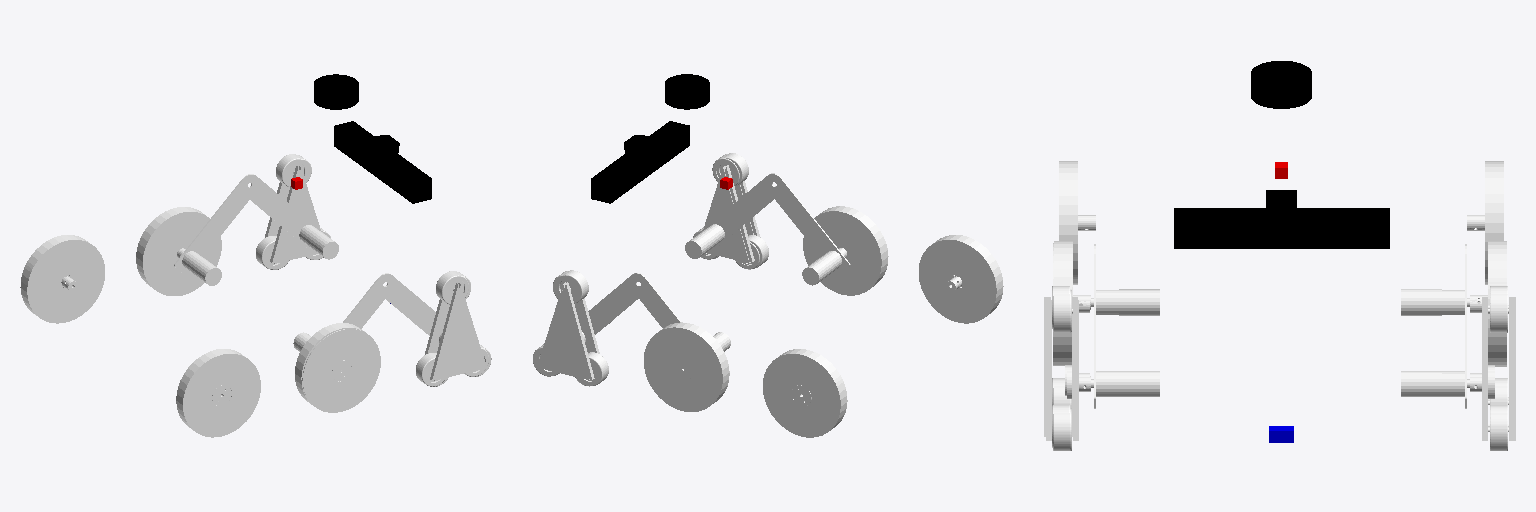
URDF robot description (r2krishna):
<?xml version="1.0" encoding="utf-8"?>
<robot name="r2krishna">

  <material name="white"><color rgba="1 1 1 1"/></material>
  <material name="black"><color rgba="0 0 0 1"/></material>
  <material name="red"><color rgba="1 0 0 1"/></material>
  <material name="blue"><color rgba="0 0 1 1"/></material>

  <link name="base_footprint"/>
  <joint name="base_footprint_joint" type="fixed">
    <parent link="base_footprint"/>
    <child link="base_link"/>
    <origin xyz="0 0 0" rpy="0 0 0"/>
  </joint>

  <link name="base_link">
    <inertial>
      <origin xyz="-0.1 0 -0.05" rpy="0 0 0"/> 
      <mass value="25.0"/> 
      <inertia ixx="0.5" ixy="0" ixz="0" iyy="0.5" iyz="0" izz="0.5"/>
    </inertial>
    <visual>
      <origin xyz="0 0 0" rpy="0 0 0"/>
      <geometry><mesh filename="package://r2krishna/meshes/base.STL"/></geometry>
      <material name="white"/>
    </visual>
    <collision>
      <origin xyz="0 0 0.05" rpy="0 0 0"/>
      <geometry><box size="0.6 0.4 0.15"/></geometry>
    </collision>
  </link>

  <link name="imu_link"/>
  <joint name="imu_joint" type="fixed">
    <parent link="base_link"/>
    <child link="imu_link"/>
    <origin xyz="0 0 0" rpy="0 0 0"/>
  </joint>

  <link name="ultrasonic_link">
    <visual>
      <geometry><box size="0.02 0.04 0.02"/></geometry>
      <material name="blue"/>
    </visual>
    <inertial><mass value="0.05"/><inertia ixx="0.0001" ixy="0" ixz="0" iyy="0.0001" iyz="0" izz="0.0001"/></inertial>
  </link>
  <joint name="ultrasonic_joint" type="fixed">
    <parent link="base_link"/>
    <child link="ultrasonic_link"/>
    <origin xyz="0.36 0 -0.3" rpy="0 0 0"/>
  </joint>

  <link name="belly_camera_link">
    <visual>
      <geometry><box size="0.02 0.02 0.02"/></geometry>
      <material name="red"/>
    </visual>
    <inertial><mass value="0.05"/><inertia ixx="0.0001" ixy="0" ixz="0" iyy="0.0001" iyz="0" izz="0.0001"/></inertial>
  </link>
  <joint name="belly_camera_joint" type="fixed">
    <parent link="base_link"/>
    <child link="belly_camera_link"/>
    <origin xyz="0.1 0 0.05" rpy="0 1.57 0"/>
  </joint>

  <link name="lidar_link">
    <visual><geometry><cylinder radius="0.05" length="0.04"/></geometry><material name="black"/></visual>
    <inertial><mass value="0.1"/><inertia ixx="0.0001" ixy="0" ixz="0" iyy="0.0001" iyz="0" izz="0.0001"/></inertial>
  </link>
  <joint name="lidar_joint" type="fixed">
    <parent link="base_link"/>
    <child link="lidar_link"/>
    <origin xyz="0.20 0 0.25" rpy="0 0 0"/>
  </joint>

  <link name="camera_link">
    <visual><geometry><box size="0.05 0.05 0.05"/></geometry><material name="black"/></visual>
    <inertial><mass value="0.05"/><inertia ixx="0.0001" ixy="0" ixz="0" iyy="0.0001" iyz="0" izz="0.0001"/></inertial>
  </link>
  <joint name="camera_joint" type="fixed">
    <parent link="base_link"/>
    <child link="camera_link"/>
    <origin xyz="0.32 0 0.08" rpy="0 0.15 0"/>
  </joint>

  <gazebo reference="camera_link">
    <sensor name="camera" type="camera"> 
      <visualize>true</visualize>
      <update_rate>30</update_rate>
      <topic>/camera/image_raw</topic> 
      <camera>
        <horizontal_fov>1.047</horizontal_fov>
        <image><width>640</width><height>480</height><format>R8G8B8</format></image>
        <clip><near>0.05</near><far>10.0</far></clip>
       </camera>
    </sensor>
  </gazebo>

  <gazebo reference="belly_camera_link">
    <sensor name="belly_camera" type="camera">
      <visualize>true</visualize>
      <update_rate>30</update_rate>
      <topic>/belly_camera/image_raw</topic>
      <camera>
        <horizontal_fov>1.0</horizontal_fov>
        <image><width>320</width><height>240</height><format>R8G8B8</format></image>
        <clip><near>0.02</near><far>2.0</far></clip>
      </camera>
    </sensor>
  </gazebo>

  <link name="bumper_link">
    <visual><geometry><box size="0.05 0.35 0.05"/></geometry><material name="black"/></visual>
    <collision name="bumper_collision"><geometry><box size="0.05 0.35 0.05"/></geometry></collision>
    <inertial><mass value="0.1"/><inertia ixx="0.001" ixy="0" ixz="0" iyy="0.001" iyz="0" izz="0.001"/></inertial>
  </link>
  <joint name="bumper_joint" type="fixed"><parent link="base_link"/><child link="bumper_link"/><origin xyz="0.32 0 0.05" rpy="0 0 0"/></joint>

  <link name="left_rover_side">
    <inertial><origin xyz="-0.026 0 -0.145"/><mass value="5.0"/><inertia ixx="0.1" ixy="0" ixz="0" iyy="0.1" iyz="0" izz="0.1"/></inertial>
    <visual><geometry><mesh filename="package://r2krishna/meshes/left_rover_side.STL"/></geometry><material name="white"/></visual>
  </link>
  <joint name="left_rover_side_joint" type="revolute">
    <origin xyz="0.151 -0.3 -0.086"/><parent link="base_link"/><child link="left_rover_side"/><axis xyz="0 1 0"/>
    <limit lower="-0.4" upper="0.4" effort="1000" velocity="10"/>
    <dynamics damping="2.0" friction="1.0"/>
  </joint>

  <link name="left_1">
    <visual><geometry><mesh filename="package://r2krishna/meshes/left_1.STL"/></geometry><material name="white"/></visual>
    <collision><origin xyz="0 -0.02 0" rpy="1.57 0 0"/><geometry><cylinder radius="0.15" length="0.05"/></geometry></collision>
    <inertial><mass value="2.0"/><inertia ixx="0.1" ixy="0" ixz="0" iyy="0.1" iyz="0" izz="0.1"/></inertial>
  </link>
  <joint name="left_1_joint" type="continuous"><origin xyz="-0.15 -0.01 -0.15"/><parent link="left_rover_side"/><child link="left_1"/><axis xyz="0 1 0"/></joint>

  <link name="left_2">
    <visual><geometry><mesh filename="package://r2krishna/meshes/left_2.STL"/></geometry><material name="white"/></visual>
    <collision><origin xyz="0 -0.02 0" rpy="1.57 0 0"/><geometry><cylinder radius="0.15" length="0.05"/></geometry></collision>
    <inertial><mass value="2.0"/><inertia ixx="0.1" ixy="0" ixz="0" iyy="0.1" iyz="0" izz="0.1"/></inertial>
  </link>
  <joint name="left_2_joint" type="continuous"><origin xyz="-0.3 -0.3 -0.23"/><parent link="base_link"/><child link="left_2"/><axis xyz="0 1 0"/></joint>

  <link name="right_rover_side">
    <inertial><origin xyz="-0.026 0 -0.145"/><mass value="5.0"/><inertia ixx="0.1" ixy="0" ixz="0" iyy="0.1" iyz="0" izz="0.1"/></inertial>
    <visual><geometry><mesh filename="package://r2krishna/meshes/right_rover_side.STL"/></geometry><material name="white"/></visual>
  </link>
  <joint name="right_rover_side_joint" type="revolute">
    <origin xyz="0.151 0.295 -0.086"/><parent link="base_link"/><child link="right_rover_side"/><axis xyz="0 1 0"/>
    <limit lower="-0.4" upper="0.4" effort="1000" velocity="10"/>
    <dynamics damping="2.0" friction="1.0"/>
  </joint>

  <link name="right_1">
    <visual><geometry><mesh filename="package://r2krishna/meshes/right_1.STL"/></geometry><material name="white"/></visual>
    <collision><origin xyz="0 0.02 0" rpy="1.57 0 0"/><geometry><cylinder radius="0.15" length="0.05"/></geometry></collision>
    <inertial><mass value="2.0"/><inertia ixx="0.1" ixy="0" ixz="0" iyy="0.1" iyz="0" izz="0.1"/></inertial>
  </link>
  <joint name="right_1_joint" type="continuous"><origin xyz="-0.15 0.01 -0.15"/><parent link="right_rover_side"/><child link="right_1"/><axis xyz="0 1 0"/></joint>

  <link name="right_2">
    <visual><geometry><mesh filename="package://r2krishna/meshes/right_2.STL"/></geometry><material name="white"/></visual>
    <collision>
        <origin xyz="0 0.02 0" rpy="1.57 0 0"/><geometry><cylinder radius="0.15" length="0.05"/></geometry>
        <surface><friction><ode><mu>2.0</mu><mu2>2.0</mu2></ode></friction></surface>
    </collision>
    <inertial><mass value="2.0"/><inertia ixx="0.1" ixy="0" ixz="0" iyy="0.1" iyz="0" izz="0.1"/></inertial>
  </link>
  <joint name="right_2_joint" type="continuous"><origin xyz="-0.3 0.3 -0.23"/><parent link="base_link"/><child link="right_2"/><axis xyz="0 1 0"/></joint>

  <link name="tri_1">
    <visual><geometry><mesh filename="package://r2krishna/meshes/tri_1.STL"/></geometry><material name="white"/></visual>
    <collision><origin xyz="0 -0.04 0"/><geometry><box size="0.2 0.05 0.2"/></geometry></collision>
    <inertial><mass value="2.0"/><inertia ixx="0.1" ixy="0" ixz="0" iyy="0.1" iyz="0" izz="0.1"/></inertial>
  </link>
  <joint name="tri_1_joint" type="continuous"><origin xyz="0.14 -0.01 -0.15"/><parent link="left_rover_side"/><child link="tri_1"/><axis xyz="0 1 0"/></joint>

  <link name="tri_2">
    <visual><geometry><mesh filename="package://r2krishna/meshes/tri_2.STL"/></geometry><material name="white"/></visual>
    <collision><origin xyz="0 0.04 0"/><geometry><box size="0.2 0.05 0.2"/></geometry></collision>
    <inertial><mass value="2.0"/><inertia ixx="0.1" ixy="0" ixz="0" iyy="0.1" iyz="0" izz="0.1"/></inertial>
  </link>
  <joint name="tri_2_joint" type="continuous"><origin xyz="0.14 0.01 -0.15"/><parent link="right_rover_side"/><child link="tri_2"/><axis xyz="0 1 0"/></joint>

  <link name="caster_back">
    <collision>
        <geometry><sphere radius="0.1"/></geometry>
        <surface>
            <friction>
                <ode>
                    <mu>0.0</mu>
                    <mu2>0.0</mu2>
                    <slip1>1.0</slip1>
                    <slip2>1.0</slip2>
                </ode>
            </friction>
        </surface>
    </collision>
    <inertial><mass value="15.0"/><inertia ixx="0.1" ixy="0" ixz="0" iyy="0.1" iyz="0" izz="0.1"/></inertial>
  </link>
  <joint name="caster_back_joint" type="fixed"><parent link="base_link"/><child link="caster_back"/><origin xyz="-0.3 0 -0.15"/></joint>

  <gazebo>
    <plugin filename="gz-sim-diff-drive-system" name="gz::sim::systems::DiffDrive">
      <left_joint>left_2_joint</left_joint><left_joint>left_1_joint</left_joint>
      <right_joint>right_2_joint</right_joint><right_joint>right_1_joint</right_joint>
      <wheel_separation>0.6</wheel_separation><wheel_radius>0.15</wheel_radius>
      <topic>/cmd_vel</topic><odom_topic>/odom</odom_topic><tf_topic>/tf</tf_topic>
      <frame_id>odom</frame_id><child_frame_id>base_footprint</child_frame_id>
    </plugin>
    <plugin filename="gz-sim-diff-drive-system" name="gz::sim::systems::DiffDrive">
      <left_joint>tri_1_joint</left_joint><right_joint>tri_2_joint</right_joint>
      <wheel_separation>0.6</wheel_separation><wheel_radius>0.15</wheel_radius>
      <topic>/cmd_vel_front</topic>
    </plugin>
    <plugin filename="gz-sim-joint-state-publisher-system" name="gz::sim::systems::JointStatePublisher"><topic>joint_states</topic></plugin>
    <plugin filename="gz-sim-imu-system" name="gz::sim::systems::Imu"></plugin>
  </gazebo>
  
  <gazebo reference="lidar_link">
    <sensor name="lidar" type="gpu_lidar">
      <pose>0 0 0 0 0 0</pose><visualize>true</visualize><update_rate>10</update_rate><topic>/scan</topic>
      <ray><scan><horizontal><samples>360</samples><min_angle>-3.14</min_angle><max_angle>3.14</max_angle></horizontal></scan><range><min>0.05</min><max>25.0</max></range></ray>
    </sensor>
  </gazebo>
  
  <gazebo reference="ultrasonic_link">
    <sensor name="ultrasonic" type="gpu_lidar">
      <pose>0 0 0 0 0 0</pose>
      <visualize>true</visualize>
      <update_rate>20</update_rate>
      <topic>/ultrasonic</topic>
      <ray>
        <scan>
          <horizontal>
            <samples>5</samples> <resolution>1</resolution>
            <min_angle>-0.1</min_angle>
            <max_angle>0.1</max_angle>
          </horizontal>
          <vertical>
            <samples>1</samples>
            <min_angle>0</min_angle>
            <max_angle>0</max_angle>
          </vertical>
        </scan>
        <range>
          <min>0.02</min>
          <max>2.0</max>
          <resolution>0.01</resolution>
        </range>
      </ray>
    </sensor>
  </gazebo>

  <gazebo reference="imu_link"><sensor name="imu" type="imu"><topic>/imu</topic><update_rate>50</update_rate><always_on>1</always_on></sensor></gazebo>
</robot>

--- Facts derived from the render (not from the file) ---
3 views of the same robot in one strip: view 1: azimuth 30°, elevation 25°; view 2: azimuth 150°, elevation 25°; view 3: azimuth 270°, elevation 25° (orthographic).
Robot: r2krishna — 17 links, 16 joints (2 revolute, 6 continuous, 8 fixed); root link base_footprint; default pose: all joints at 0.
Links seen in each view (by area): view 1: right_rover_side, right_2, left_2, left_1, tri_1, left_rover_side, bumper_link, tri_2, lidar_link, right_1, camera_link; view 2: left_rover_side, right_rover_side, left_2, right_2, bumper_link, tri_2, right_1, lidar_link, tri_1, camera_link; view 3: right_rover_side, bumper_link, left_rover_side, lidar_link, left_2, right_2, tri_1, camera_link, right_1, left_1, tri_2.
Link boxes in pixels (box(x1,y1,x2,y2)): right_rover_side: box(136, 155, 338, 295); right_2: box(20, 235, 104, 323); left_2: box(176, 349, 260, 437); left_1: box(302, 329, 380, 412); tri_1: box(416, 271, 488, 386); left_rover_side: box(293, 271, 491, 403); bumper_link: box(334, 121, 431, 203); tri_2: box(256, 154, 319, 269); lidar_link: box(314, 74, 358, 109); right_1: box(144, 213, 221, 295); camera_link: box(366, 135, 399, 165); left_rover_side: box(685, 154, 888, 294); right_rover_side: box(533, 271, 730, 410); left_2: box(919, 235, 1003, 323); right_2: box(763, 349, 847, 437); bumper_link: box(591, 121, 689, 203); tri_2: box(536, 270, 608, 385); right_1: box(644, 328, 721, 411); lidar_link: box(665, 74, 709, 109); tri_1: box(704, 153, 768, 268); camera_link: box(624, 135, 656, 164); right_rover_side: box(1401, 241, 1515, 450); bumper_link: box(1174, 208, 1389, 248); left_rover_side: box(1046, 241, 1159, 450); lidar_link: box(1251, 61, 1311, 108); left_2: box(1059, 161, 1095, 284); right_2: box(1467, 161, 1503, 284); tri_1: box(1044, 286, 1089, 447); camera_link: box(1266, 190, 1296, 219); right_1: box(1470, 284, 1506, 366); left_1: box(1053, 243, 1089, 365); tri_2: box(1470, 286, 1515, 426).
Size in the robot's own frame: 0.7845 by 0.763 by 0.606 metres.
Meshes: 9 distinct files referenced, 8 mesh visuals loaded (8 binary STL); not drawn: 1 (reference not matched to a file when rendering).
